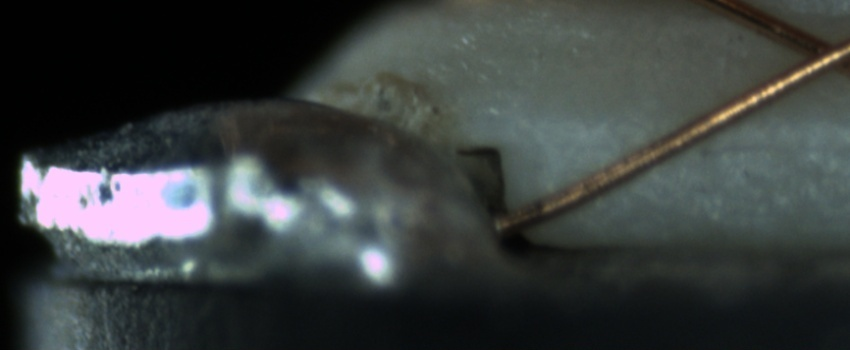CL: (773, 21, 849, 89)
DL: (561, 106, 848, 174)
